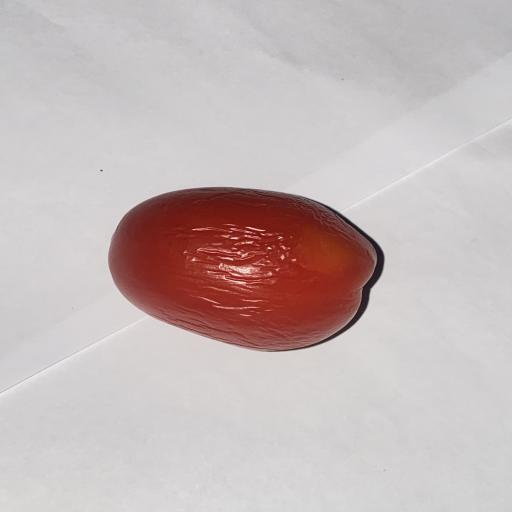spoiled: (109, 188, 376, 350)
